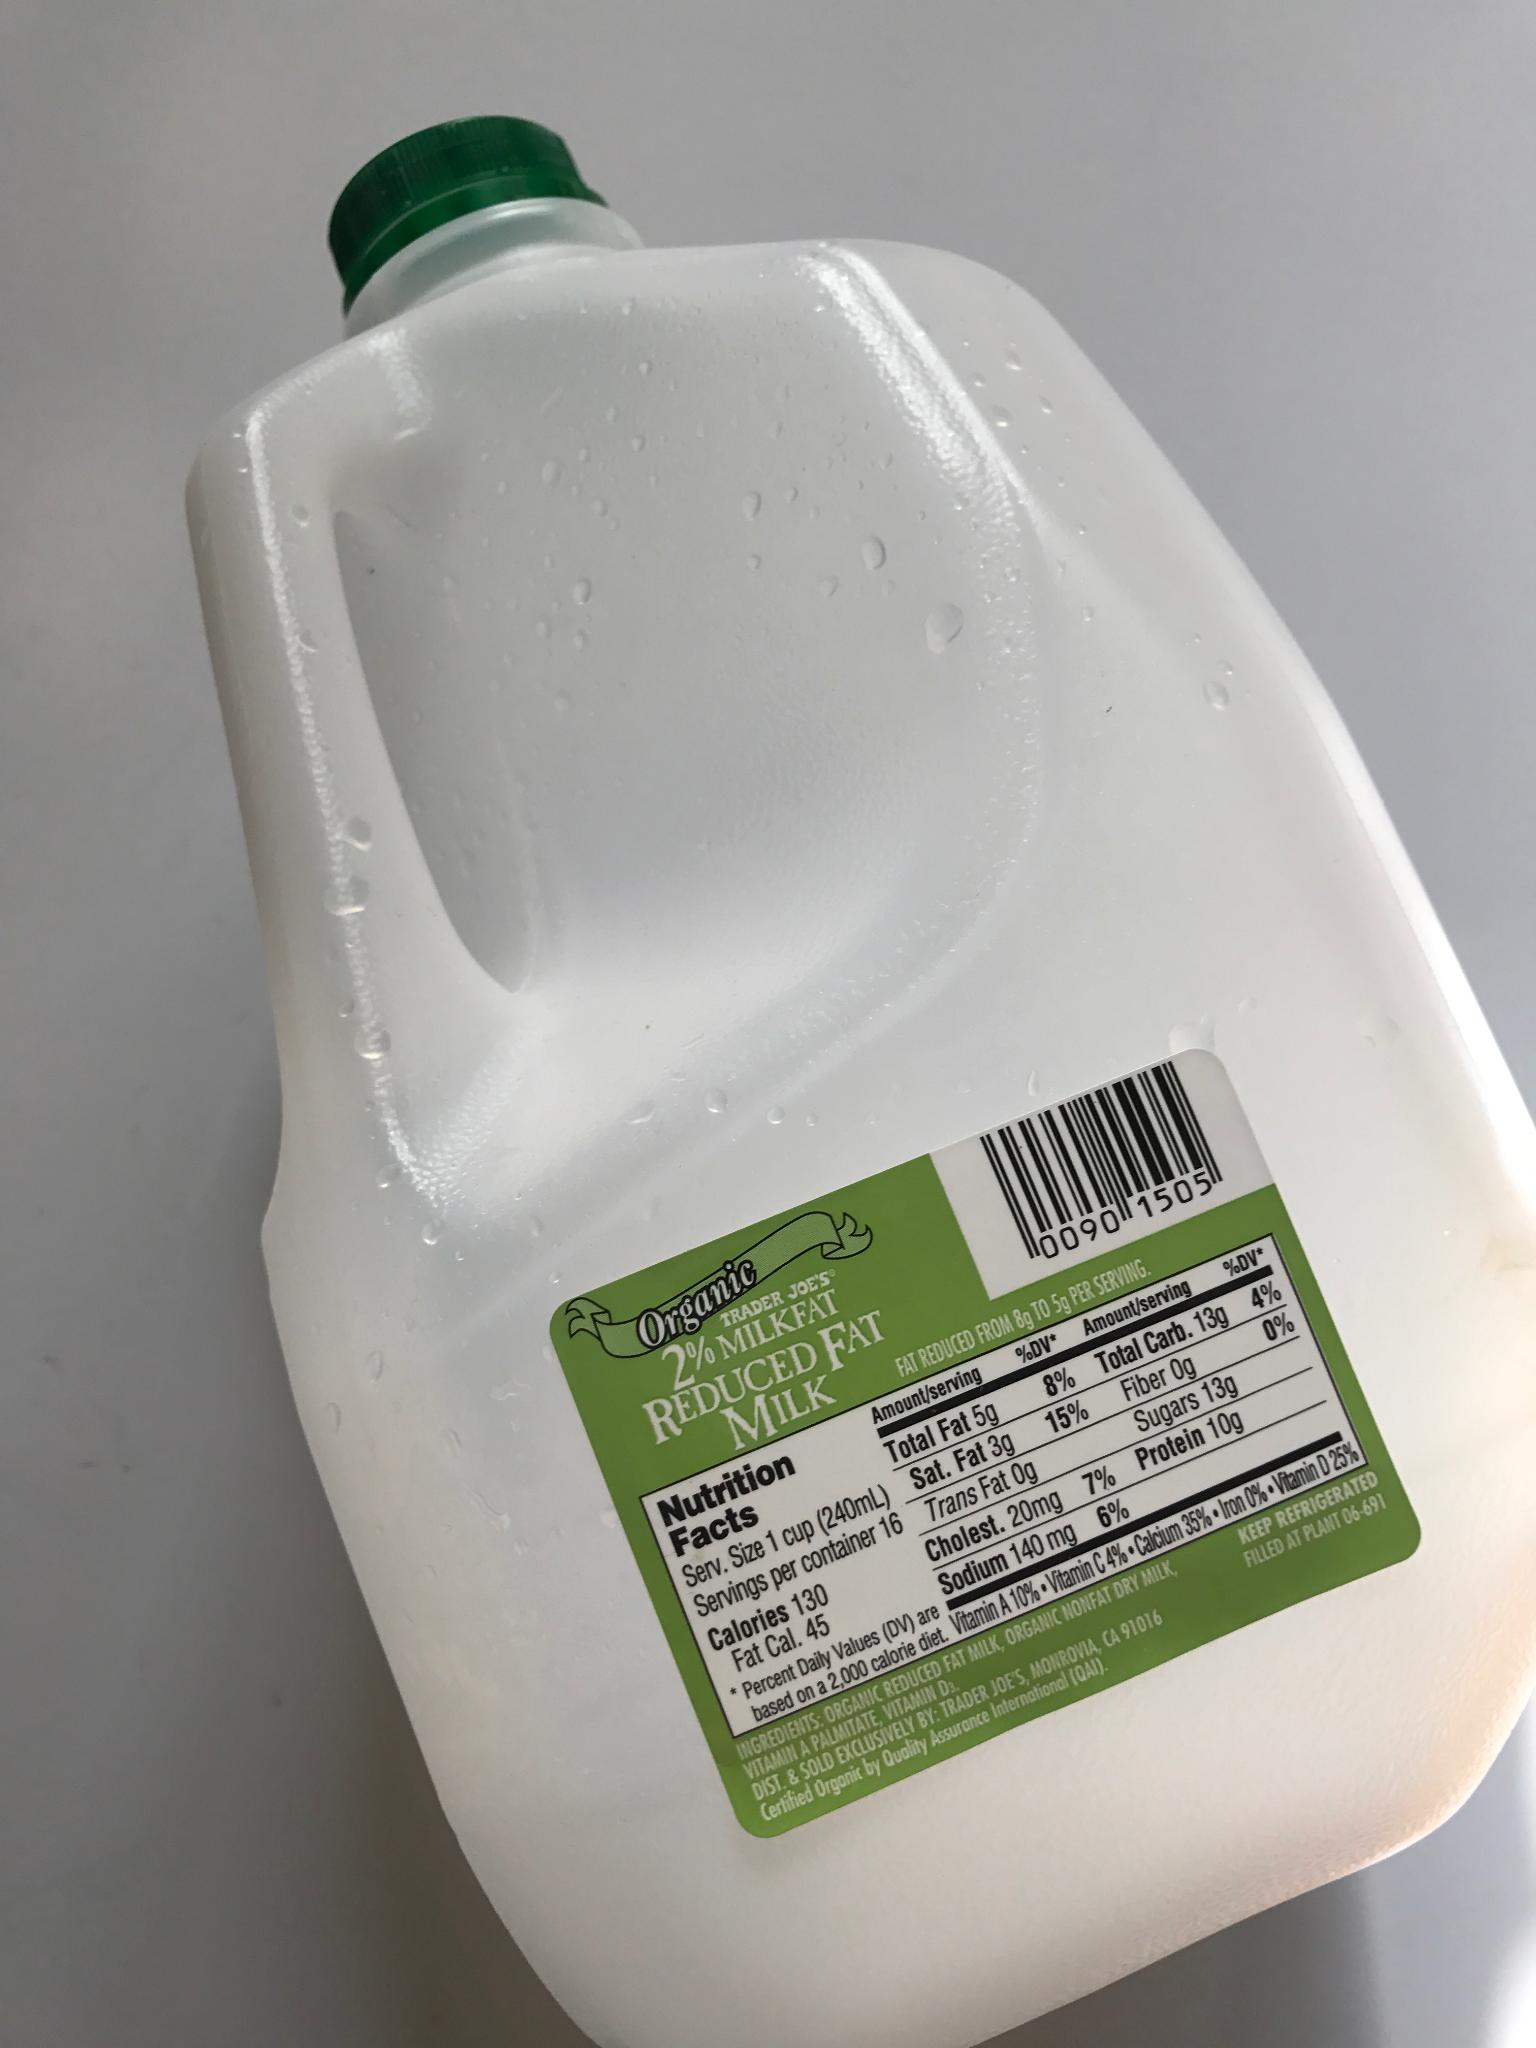Plastic: (182, 110, 1534, 2046)
